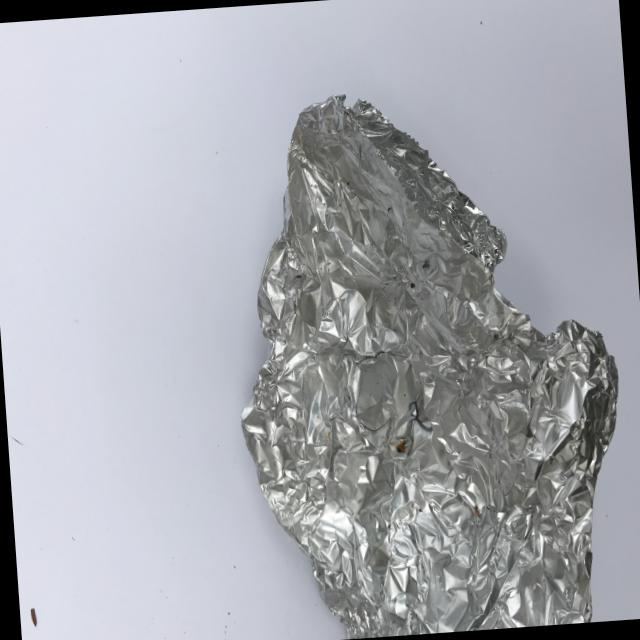Metal: (203, 52, 640, 640)
